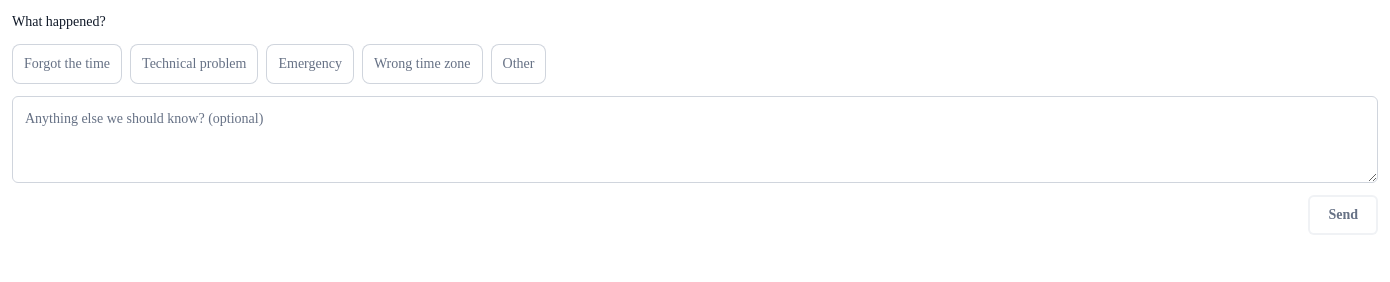
Test: MissedReasonForm › shows how much of the note is used, once there is one
The width and height of the screenshot is (1390, 282).
Step 1. Type "abc" into the text box → point(695, 140), box [12,96,1378,183]
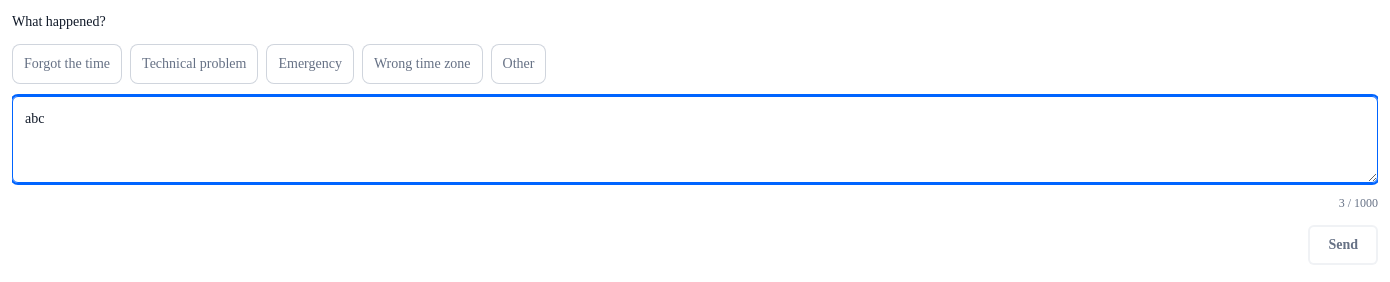
Expected: the text "3 / 1000" is shown, [1339,195,1378,213]
